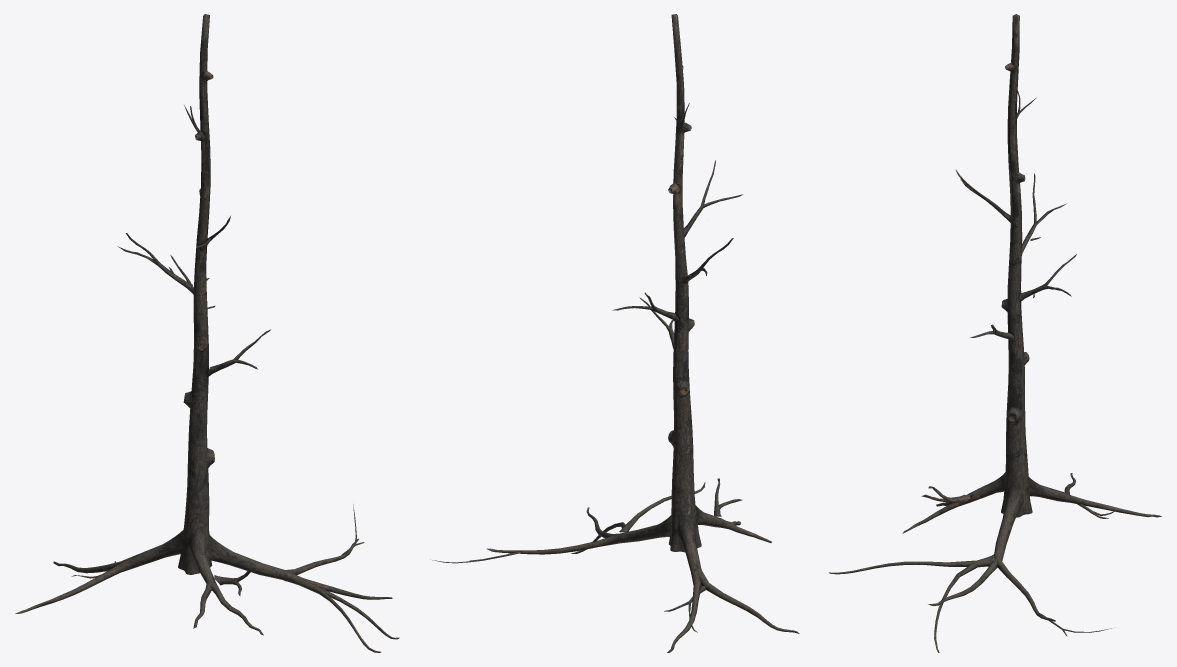
File: SM_TreeBattlefield03.glb
3 renders of one model, left to right at view 1: azimuth 30°, elevation 25°; view 2: azimuth 150°, elevation 25°; view 3: azimuth 270°, elevation 25°, orthographic. The views are drawn at different scales.
Parts seen in each view (by area): view 1: SM_TreeBattlefield03; view 2: SM_TreeBattlefield03; view 3: SM_TreeBattlefield03.
Part boxes in pixels (x1,y1,x2,y2): SM_TreeBattlefield03: (15,14,399,652); SM_TreeBattlefield03: (430,14,799,652); SM_TreeBattlefield03: (829,14,1161,652).
Bounding box in the file's own units: 3.96 × 6.57 × 3.48.
Materials: 1 (1 with a texture image).
